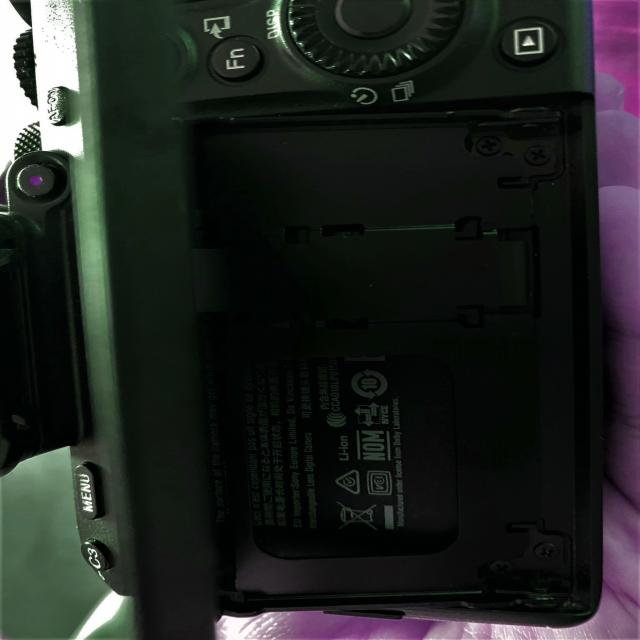PhillipsScrewHead: (522, 145, 551, 166), (474, 136, 501, 156), (535, 542, 560, 562), (490, 562, 515, 578)
